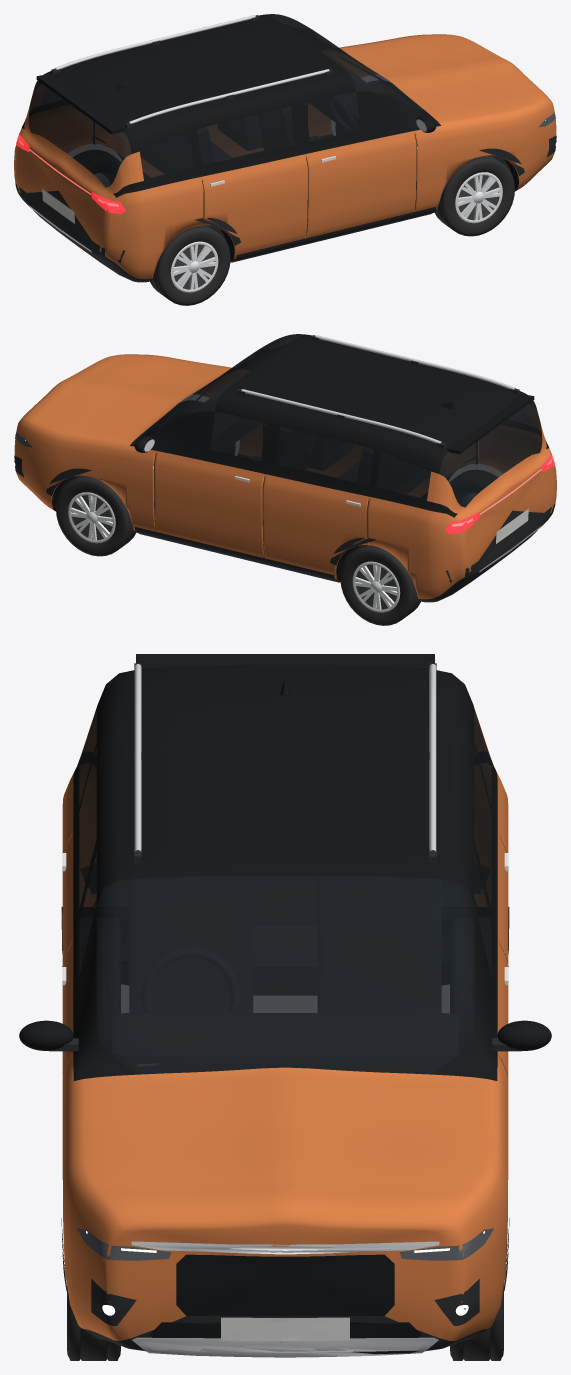
The model's file is honda-elevate-model-low.glb.
3 renders of one model, top to bottom at view 1: azimuth 30°, elevation 25°; view 2: azimuth 150°, elevation 25°; view 3: azimuth 270°, elevation 25°, orthographic. The views are drawn at different scales.
Visible parts, largest first — view 1: Body, Wheel.004, Wheel.002, SeatBack.002, SillCladding.001, SeatBack.001, Spoiler, RearBumper, Dashboard, Wheel.003, RoofRail, RoofRail.001 (+7 smaller); view 2: Body, Wheel.003, Wheel.001, SeatBack.002, Dashboard, SillCladding, SeatBack, Spoiler, RearBumper, Wheel.004, RoofRail.001, RoofRail (+7 smaller); view 3: Body, Dashboard, SeatBack, SeatBack.001, Grille, Silver0, SeatBase.002, Spoiler, Wheel.004, Wheel.003, SeatBack.002, PlateFront (+12 smaller).
Boxes of the visible parts, bbox=[...] form: Body: bbox=[14, 14, 556, 282]; Wheel.004: bbox=[150, 225, 230, 305]; Wheel.002: bbox=[434, 155, 514, 236]; SeatBack.002: bbox=[148, 127, 213, 170]; SillCladding.001: bbox=[231, 207, 436, 262]; SeatBack.001: bbox=[257, 107, 294, 150]; Spoiler: bbox=[36, 74, 123, 134]; RearBumper: bbox=[15, 183, 124, 262]; Dashboard: bbox=[309, 56, 379, 130]; Wheel.003: bbox=[73, 150, 120, 186]; RoofRail: bbox=[55, 15, 255, 69]; RoofRail.001: bbox=[129, 69, 329, 123]; Body: bbox=[14, 334, 556, 602]; Wheel.003: bbox=[340, 545, 420, 625]; Wheel.001: bbox=[56, 475, 136, 556]; SeatBack.002: bbox=[357, 447, 422, 490]; Dashboard: bbox=[191, 376, 261, 451]; SillCladding: bbox=[134, 527, 339, 582]; SeatBack: bbox=[276, 427, 313, 470]; Spoiler: bbox=[447, 394, 534, 454]; RearBumper: bbox=[446, 503, 555, 582]; Wheel.004: bbox=[450, 470, 497, 506]; RoofRail.001: bbox=[315, 335, 515, 389]; RoofRail: bbox=[241, 389, 441, 443]; Body: bbox=[62, 665, 508, 1354]; Dashboard: bbox=[113, 1013, 457, 1074]; SeatBack: bbox=[318, 876, 440, 1007]; SeatBack.001: bbox=[130, 876, 252, 1007]; Grille: bbox=[176, 1254, 394, 1316]; Silver0: bbox=[132, 1337, 438, 1357]; SeatBase.002: bbox=[254, 925, 316, 994]; Spoiler: bbox=[136, 654, 434, 669]; Wheel.004: bbox=[79, 917, 120, 1053]; Wheel.003: bbox=[450, 917, 490, 1053]; SeatBack.002: bbox=[254, 876, 316, 924]; PlateFront: bbox=[221, 1317, 349, 1340].
Bounding box in the file's own units: 4.26 × 1.68 × 2.15.
